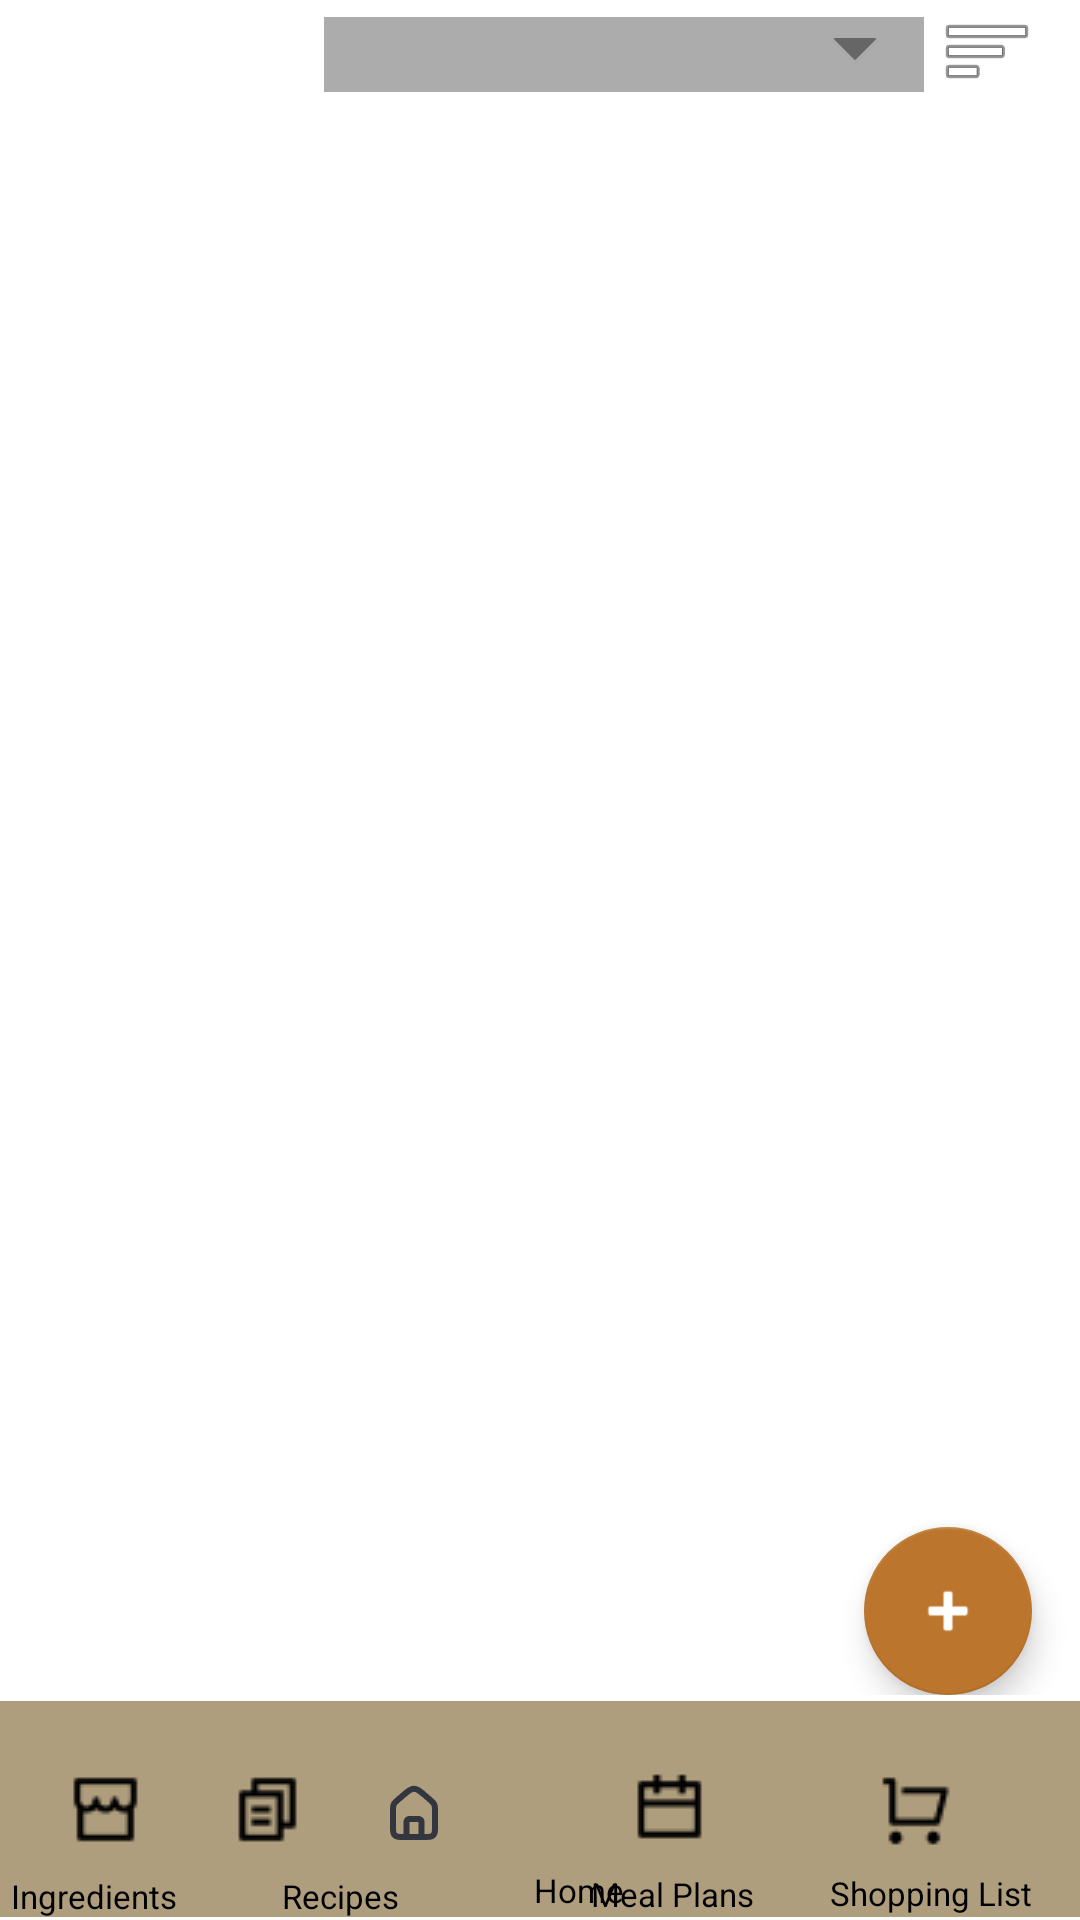

Where icons sit on this 1080px×1920px app screen, as {"left": x1, "top": y1, "right": x2, "bottom": y2}:
add: {"left": 864, "top": 1527, "right": 1032, "bottom": 1695}
